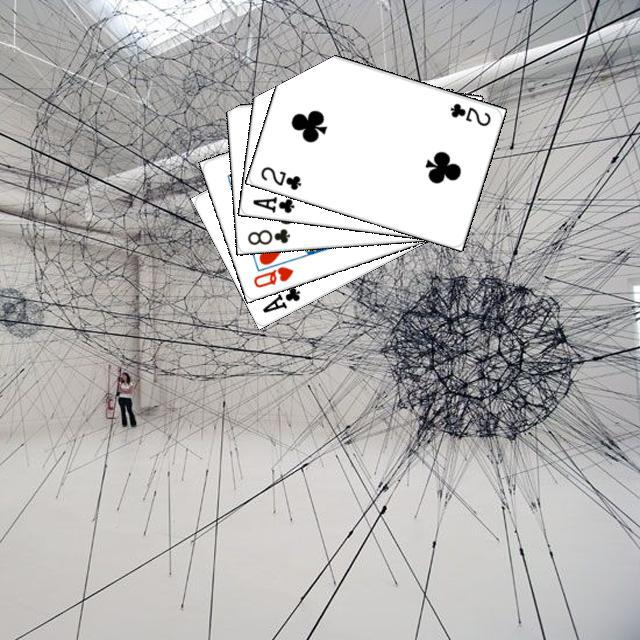2c: (256, 162, 303, 192), (445, 98, 492, 128)
8c: (243, 223, 292, 247)
Ac: (257, 282, 302, 314), (248, 192, 296, 215)
Qh: (248, 261, 295, 289)
